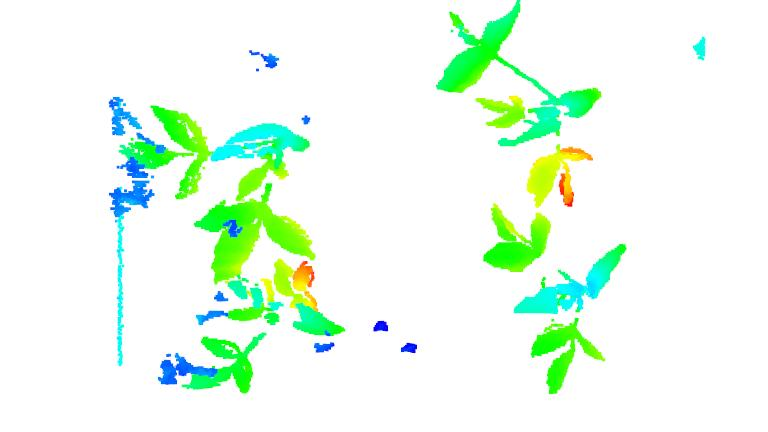mungbean: (432, 1, 610, 206), (115, 103, 323, 278), (485, 205, 632, 395), (177, 265, 351, 395)
